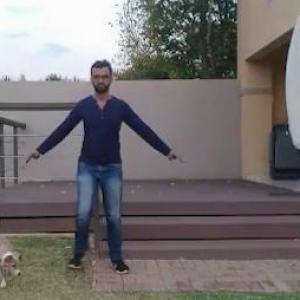land: (28, 73, 195, 262)
